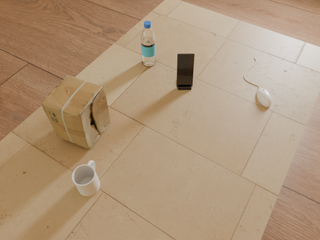bottle: (141, 21, 156, 66)
box: (42, 75, 110, 149)
cup: (72, 161, 100, 196)
mouse: (257, 89, 272, 107)
phone: (177, 54, 194, 87)
